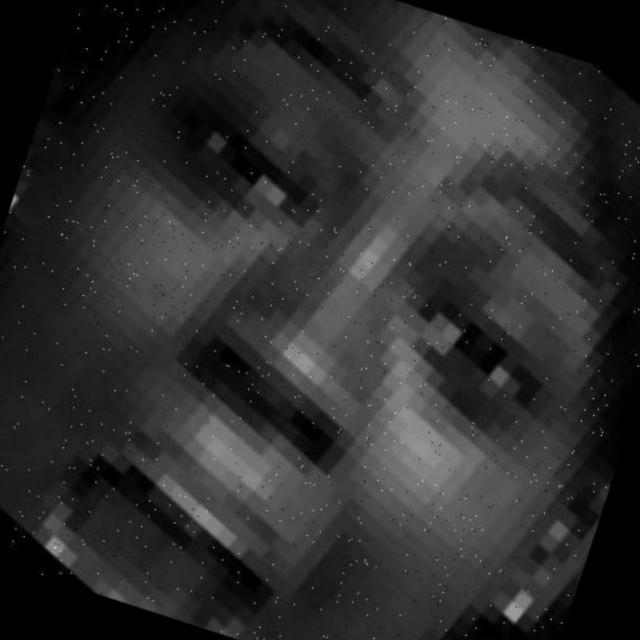Surprised: (5, 56, 587, 635)
